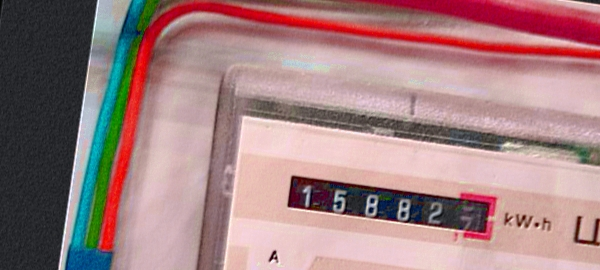1: (301, 178, 318, 209)
2: (427, 197, 448, 226)
5: (331, 185, 352, 217)
7: (460, 211, 475, 230)
8: (363, 189, 383, 219), (396, 193, 416, 223)
screen: (275, 156, 508, 249)
